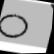no answer: (0, 7, 34, 40)
